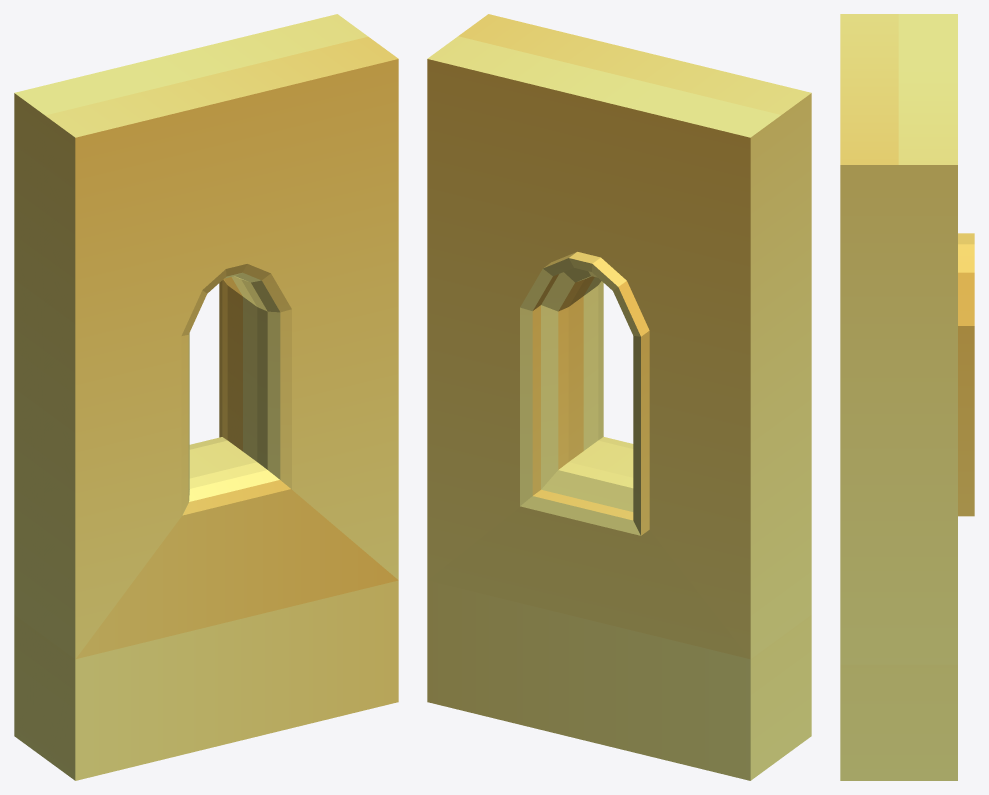
Rendered from muro_finestra_stanza_piccola 1.fbx.
3 views of the same model, side by side, from view 1: azimuth 30°, elevation 25°; view 2: azimuth 150°, elevation 25°; view 3: azimuth 270°, elevation 25° (orthographic). The views are drawn at different scales.
Parts seen in each view (by area): view 1: muro_finestra_stanza_piccola; view 2: muro_finestra_stanza_piccola; view 3: muro_finestra_stanza_piccola.
Part boxes in pixels (<box>): muro_finestra_stanza_piccola: <box>14,14,398,780</box>; muro_finestra_stanza_piccola: <box>427,14,811,780</box>; muro_finestra_stanza_piccola: <box>840,14,974,780</box>.
Bounding box in the file's own units: 2387 × 4538 × 895.
1 material, 1 textured.
